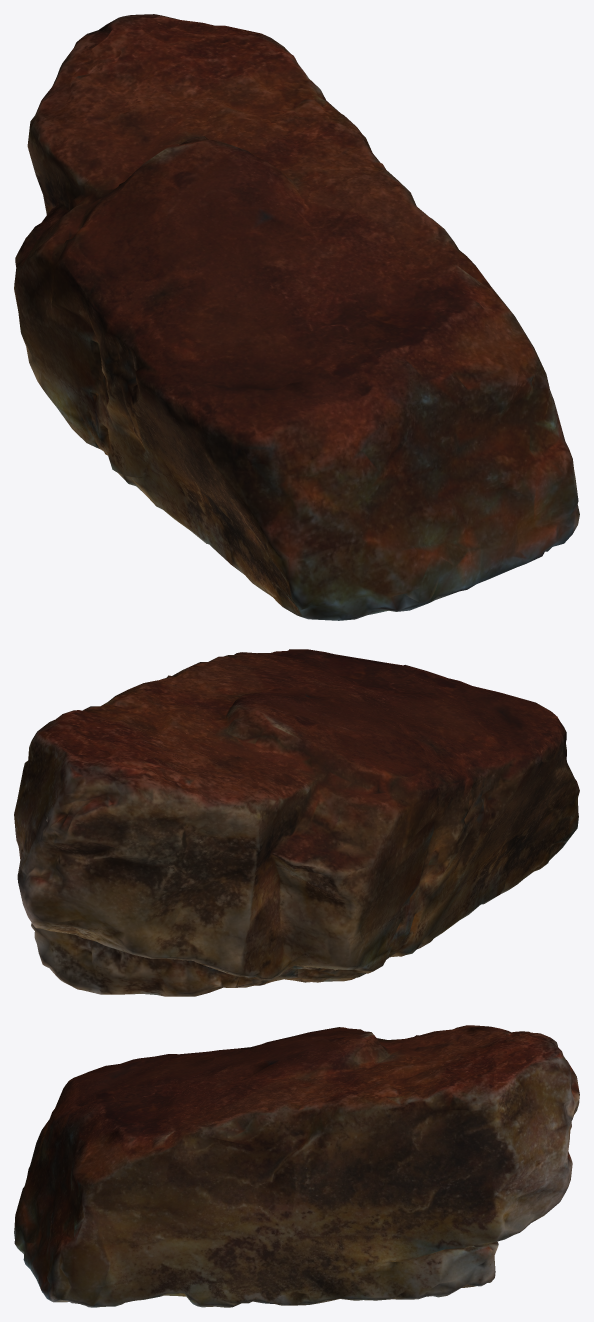
The model's file is rock_07.glb.
3 views of the same model, one above another, from view 1: azimuth 30°, elevation 25°; view 2: azimuth 150°, elevation 25°; view 3: azimuth 270°, elevation 25° (orthographic). The views are drawn at different scales.
Parts seen in each view (by area): view 1: rock_07; view 2: rock_07; view 3: rock_07.
Part boxes in pixels (<box>): rock_07: <box>14,14,579,620</box>; rock_07: <box>14,649,579,996</box>; rock_07: <box>14,1025,579,1307</box>.
Bounding box in the file's own units: 0.1686 × 0.1437 × 0.3202.
1 material, 1 textured.
